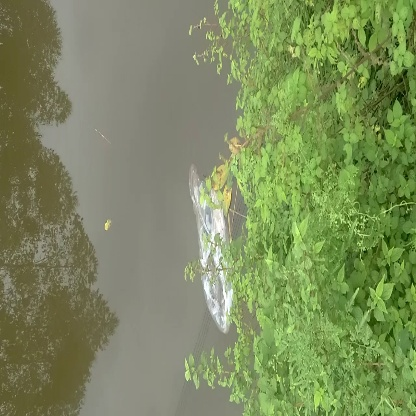plastic-bag: (185, 170, 245, 331)
